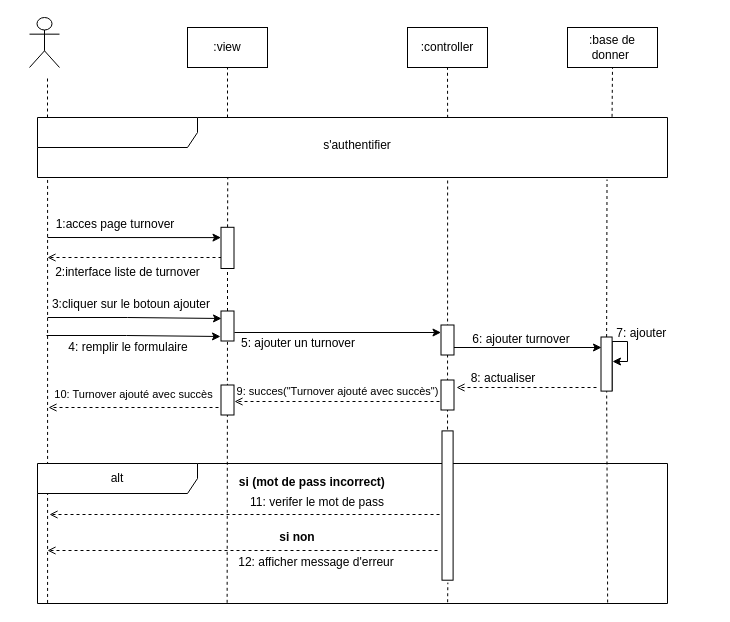
Image size: 730x622. Some labels were removed from this diagram. The shapes that lost their labels are listed below. From the top down, each one's box as (x1, y1, x2, y2) in pixels, then its label:
(28, 16, 60, 68): admin
(36, 116, 668, 178): ref
